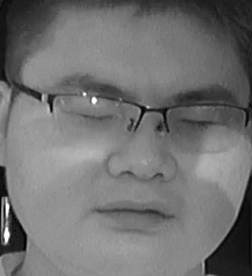blink: (77, 106, 116, 125), (179, 112, 213, 130)
glass: (46, 91, 144, 144), (161, 100, 248, 154)
mouth: (93, 197, 173, 229)
